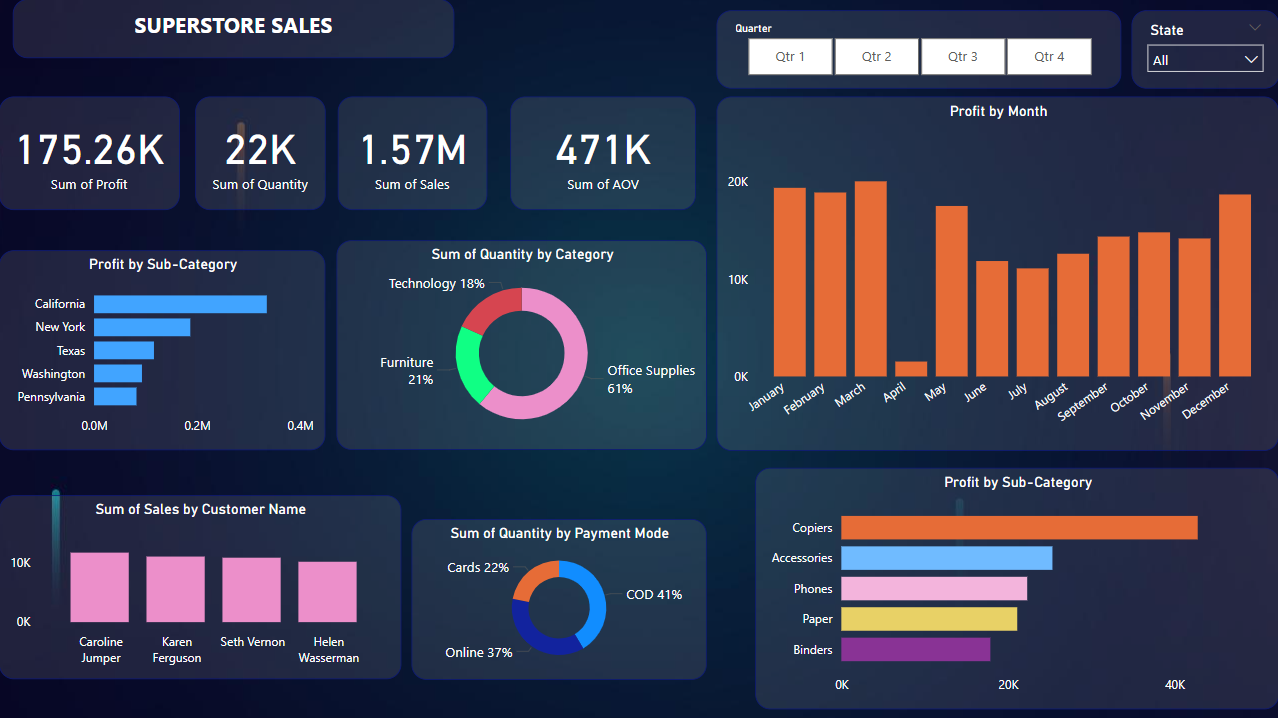

Layout of this report page (visuals, bound fields, positions):
{"tool":"powerbi","page":{"name":"Page 1","canvas":[1280,720],"ordinal":0},"visuals":[{"type":"textbox","box":[13.7,0,441.9,59],"z":0},{"type":"columnChart","title":"Profit by Month","fields":{"Y":["SuperStore_Sales_Dataset.Profit"],"Category":["SuperStore_Sales_Dataset.Order Date.Variation.Date Hierarchy.Month"]},"box":[717.7,97.4,562.6,354],"z":1000},{"type":"barChart","title":"Profit by Sub-Category","fields":{"Y":["SuperStore_Sales_Dataset.Profit"],"Category":["SuperStore_Sales_Dataset.Sub-Category"]},"box":[756.1,469.3,524.2,241.5],"z":2000},{"type":"donutChart","fields":{"Category":["SuperStore_Sales_Dataset.Category"],"Y":["SuperStore_Sales_Dataset.Quantity"]},"box":[337.6,241.5,370.5,209.9],"z":3000},{"type":"donutChart","fields":{"Y":["SuperStore_Sales_Dataset.Quantity"],"Category":["SuperStore_Sales_Dataset.Payment Mode"]},"box":[413,520.1,295,160.5],"z":4000},{"type":"card","fields":{"Values":["SuperStore_Sales_Dataset.Profit"]},"box":[0,97.4,181.1,113.9],"z":5000},{"type":"card","fields":{"Values":["SuperStore_Sales_Dataset.Quantity"]},"box":[196.2,97.4,130.4,113.9],"z":6000},{"type":"card","fields":{"Values":["SuperStore_Sales_Dataset.Sales"]},"box":[338.9,97.4,149.6,113.9],"z":7000},{"type":"card","fields":{"Values":["SuperStore_Sales_Dataset.AOV"]},"box":[511.8,97.4,185.2,113.9],"z":8000},{"type":"barChart","title":"Profit by Sub-Category","fields":{"Category":["SuperStore_Sales_Dataset.State"],"Y":["SuperStore_Sales_Dataset.Sales"]},"box":[0,251.1,326.6,200.3],"z":9000},{"type":"columnChart","fields":{"Category":["SuperStore_Sales_Dataset.Customer Name"],"Y":["SuperStore_Sales_Dataset.Sales"]},"box":[0,496.7,402.1,183.9],"z":10000},{"type":"slicer","fields":{"Values":["SuperStore_Sales_Dataset.Order Date.Variation.Date Hierarchy.Quarter"]},"box":[717.7,11,404.8,78.2],"z":11000},{"type":"slicer","fields":{"Values":["SuperStore_Sales_Dataset.State"]},"box":[1132.1,11,148.2,78.2],"z":11001}]}

Visuals, with their boxes in screenshot pixels (x1, y1, x2, y2), scaled from the page's 1280x720 canvas onto the 1278x718 screenshot:
textbox: left=14, top=0, right=455, bottom=59
"Profit by Month" columnChart: left=717, top=97, right=1277, bottom=450
"Profit by Sub-Category" barChart: left=755, top=468, right=1277, bottom=709
donutChart - SuperStore_Sales_Dataset.Category x SuperStore_Sales_Dataset.Quantity: left=337, top=241, right=707, bottom=450
donutChart - SuperStore_Sales_Dataset.Quantity x SuperStore_Sales_Dataset.Payment Mode: left=412, top=519, right=707, bottom=679
card - SuperStore_Sales_Dataset.Profit: left=0, top=97, right=181, bottom=211
card - SuperStore_Sales_Dataset.Quantity: left=196, top=97, right=326, bottom=211
card - SuperStore_Sales_Dataset.Sales: left=338, top=97, right=488, bottom=211
card - SuperStore_Sales_Dataset.AOV: left=511, top=97, right=696, bottom=211
"Profit by Sub-Category" barChart: left=0, top=250, right=326, bottom=450
columnChart - SuperStore_Sales_Dataset.Customer Name x SuperStore_Sales_Dataset.Sales: left=0, top=495, right=401, bottom=679
slicer - SuperStore_Sales_Dataset.Order Date.Variation.Date Hierarchy.Quarter: left=717, top=11, right=1121, bottom=89
slicer - SuperStore_Sales_Dataset.State: left=1130, top=11, right=1277, bottom=89
